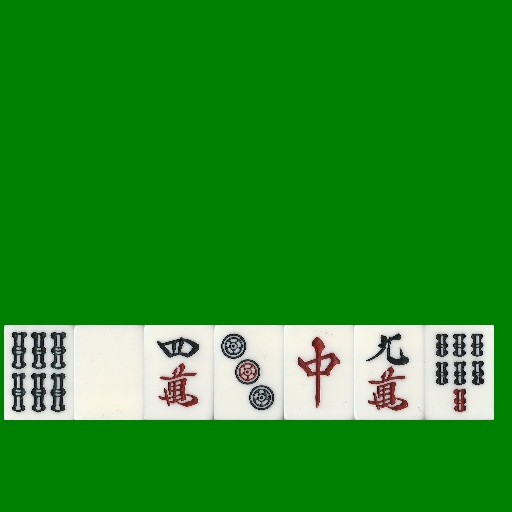3p: (214, 325, 284, 420)
4m: (144, 325, 214, 420)
6s: (4, 325, 74, 420)
7s: (424, 325, 494, 420)
9m: (354, 325, 424, 420)
tyun: (284, 325, 354, 420)
white: (74, 325, 144, 420)
